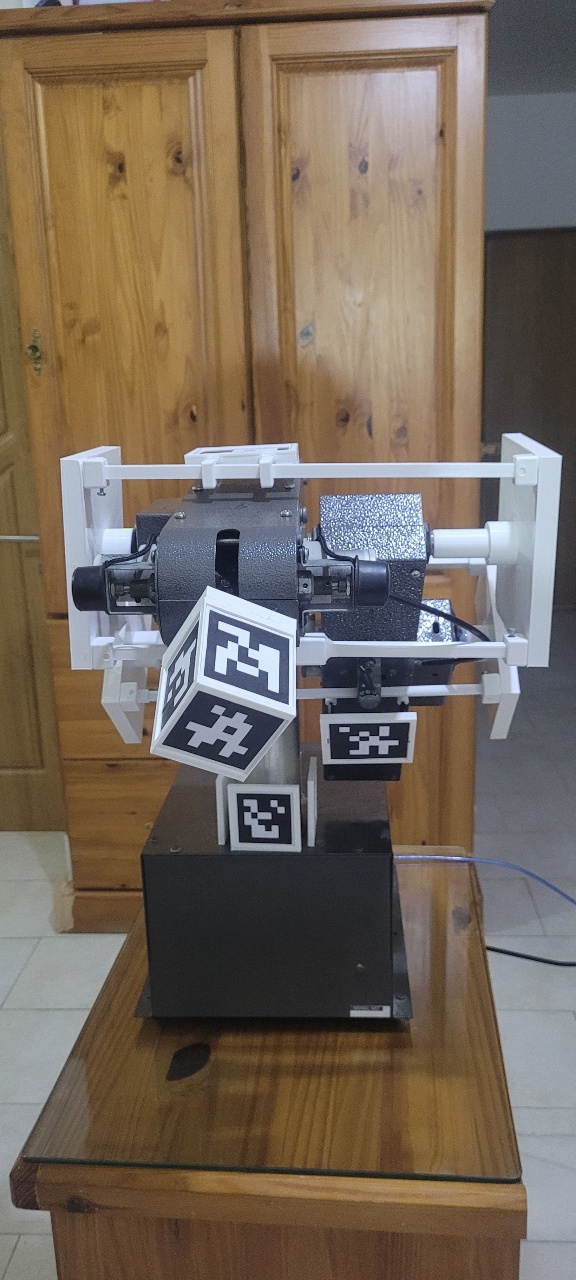Robot: (5, 391, 567, 1225)
